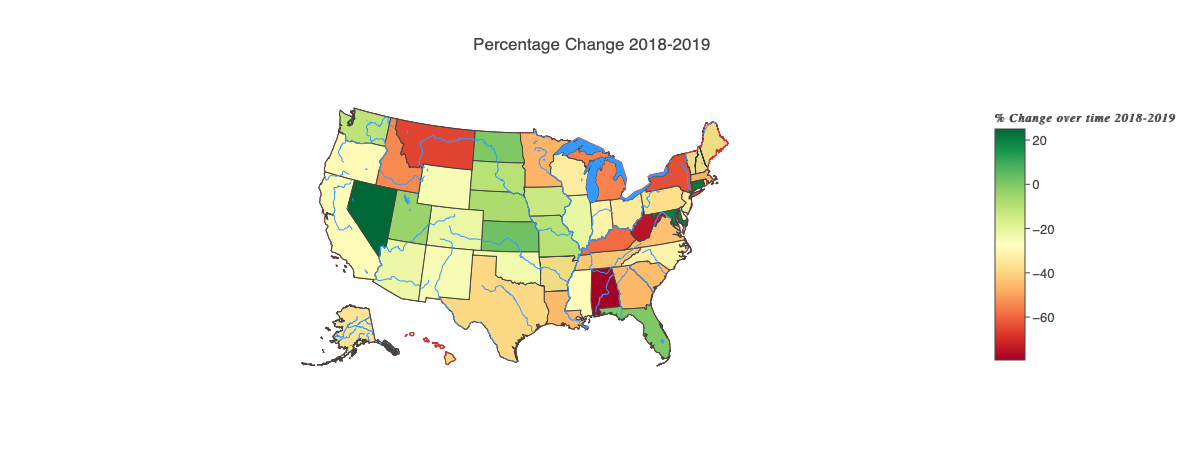

The dashboard page shown, as its layout file describes it:
{"tool":"tableau","page":{"name":"LGB Rank","canvas":[1266,668],"ordinal":1},"visuals":[{"type":"image","param":"C:/Users/Jimny/Desktop/Study/Fall 2019/ANLY 503/Project/LGB_Rank.png","box":[122,31,1009,572]}]}

Visuals, with their boxes on the page's 1266x668 design canvas (x1, y1, x2, y2). These are canvas units, not pixel positions in the 1184x450 screenshot, which may show the page scaled, cropped or inside an application window:
image: x1=122, y1=31, x2=1131, y2=603
